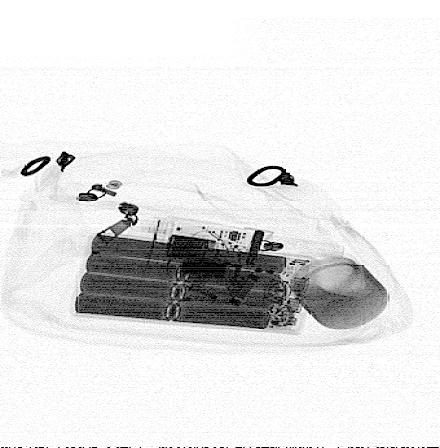Powerbank: (68, 229, 323, 336)
